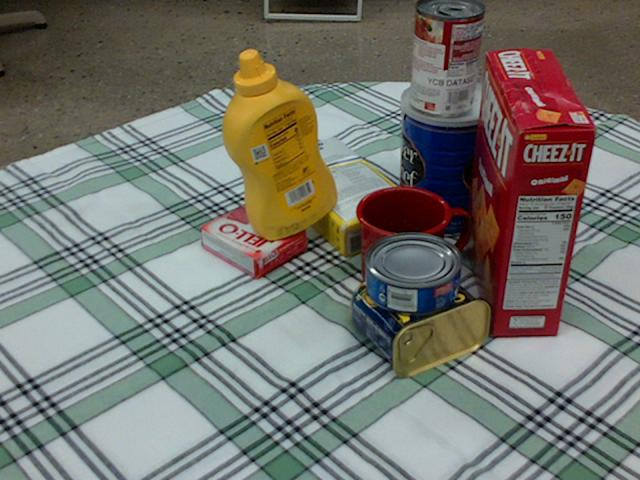cracker_box: (463, 50, 598, 335)
gelatin_box: (200, 203, 307, 280)
master_chef_can: (395, 78, 500, 237)
mug: (356, 187, 470, 300)
mustard_bottle: (222, 49, 336, 240)
potted_meat_can: (353, 255, 494, 374)
sugar_box: (266, 135, 415, 256)
tomato_soup_can: (410, 0, 484, 116)
tuna_fish_can: (364, 232, 462, 315)
